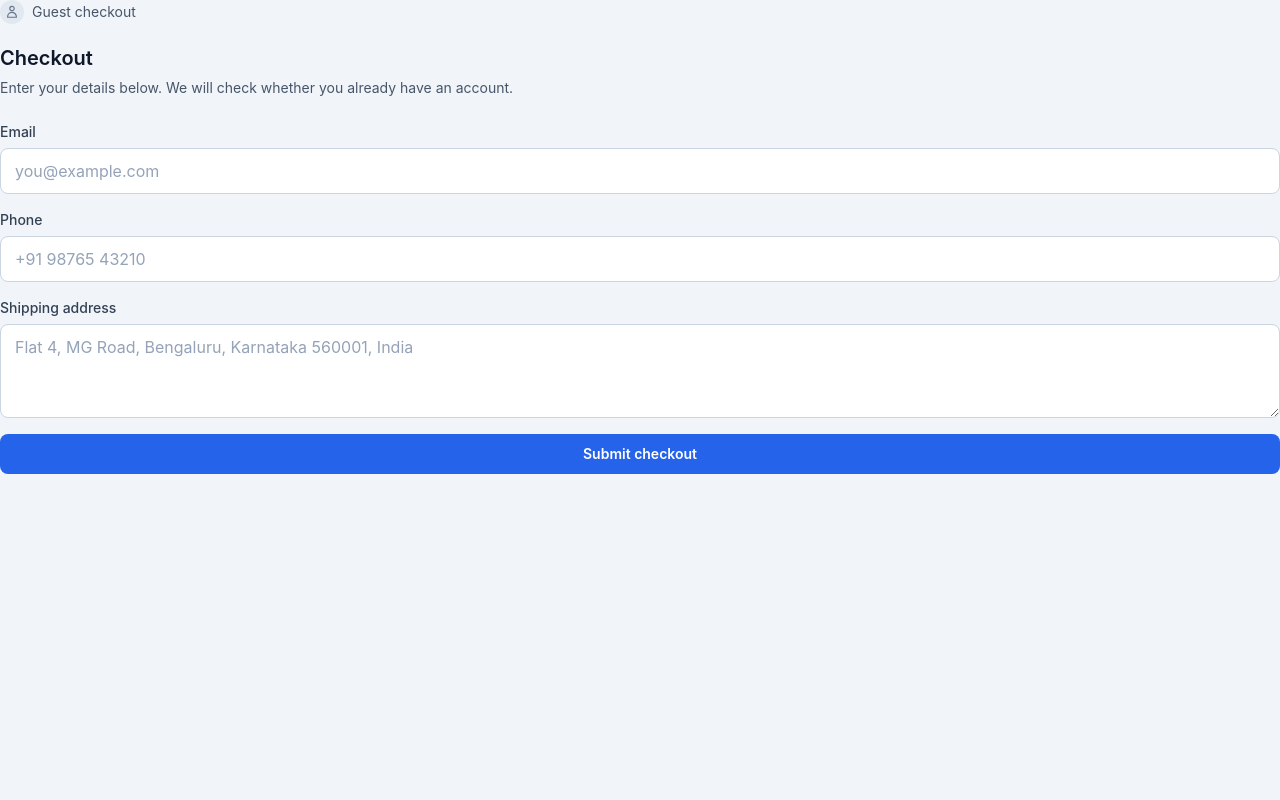
Scenario: CheckoutForm › shows the continue button as disabled until six digits are entered
Type "vijay@example.com" into the field labelled "Email" at (640, 171), box [0,148,1279,194]
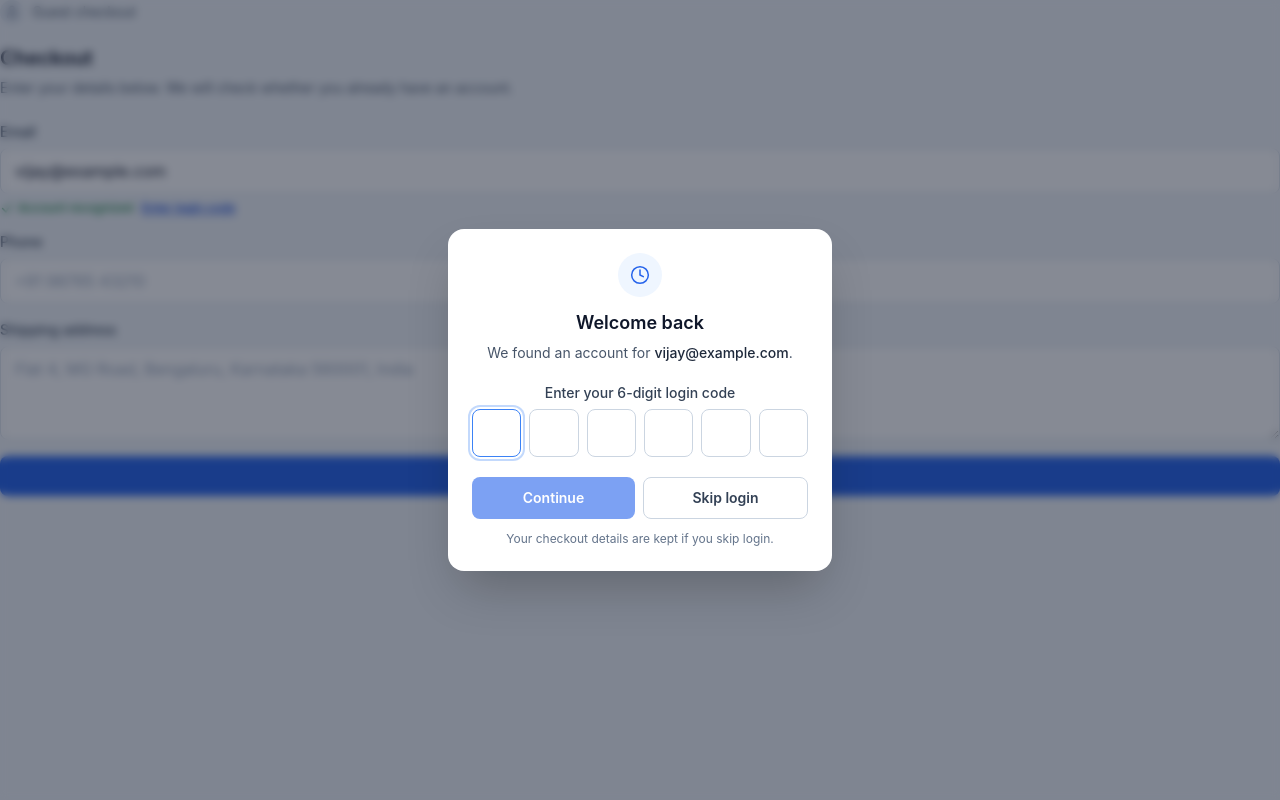
Expected: the dialog is shown, [448,229,832,571]
Type "482" into the field named "login code digit 1 of 6" at (497, 433), box [472,409,521,457]
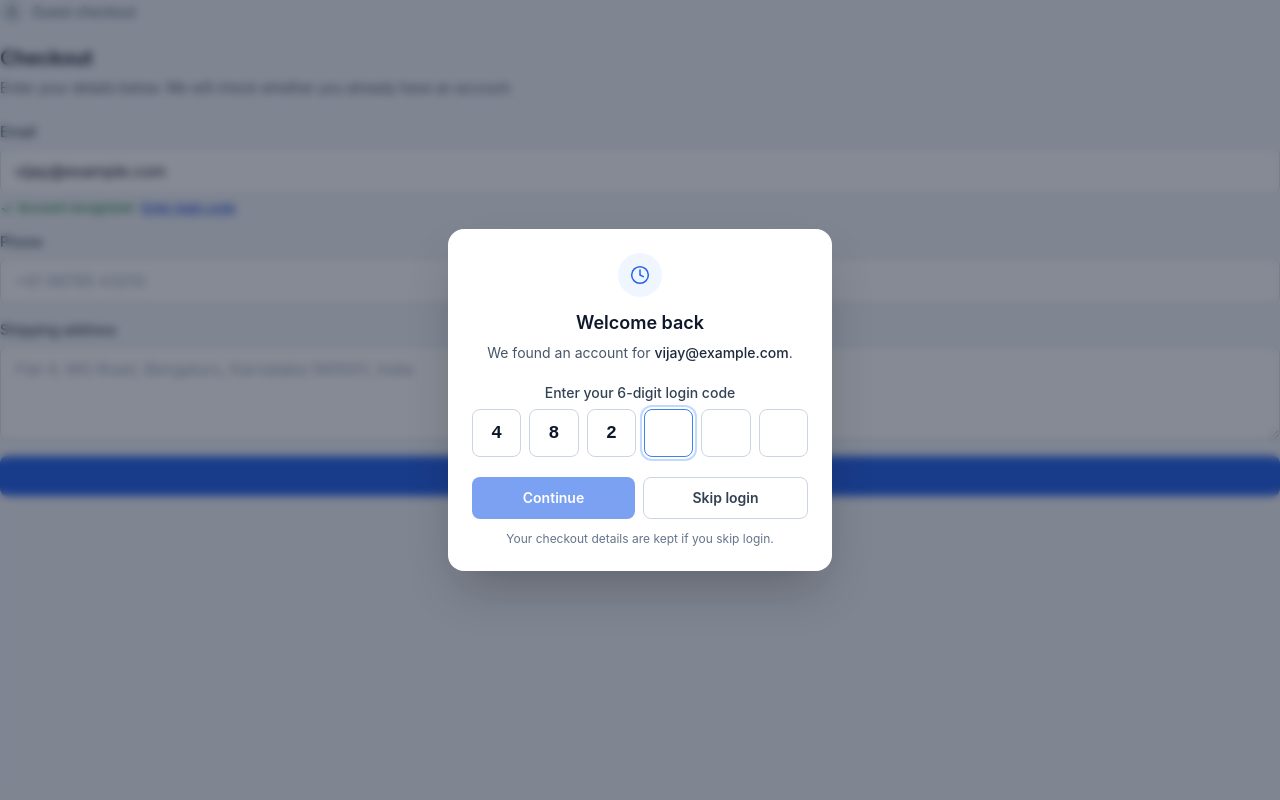
Expected: the button "Continue" is disabled, [472,477,635,519]
Type "193" into the field named "login code digit 4 of 6" at (669, 433), box [644,409,693,457]
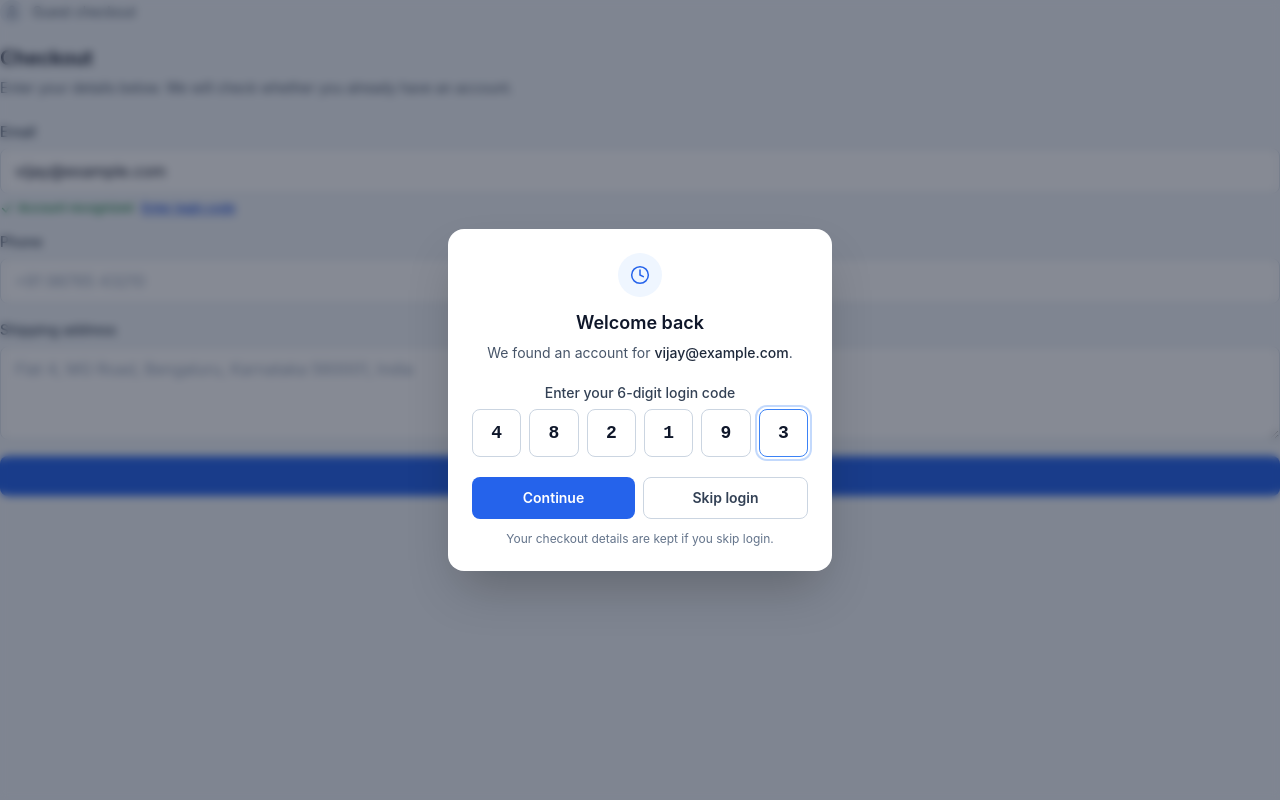
Expected: the button "Continue" is enabled, [472,477,635,519]
